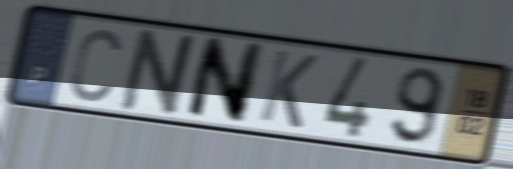4: (320, 54, 375, 143)
9: (389, 65, 447, 147)
C: (67, 25, 125, 105)
K: (255, 46, 322, 132)
N: (115, 26, 205, 120), (182, 33, 268, 126)
